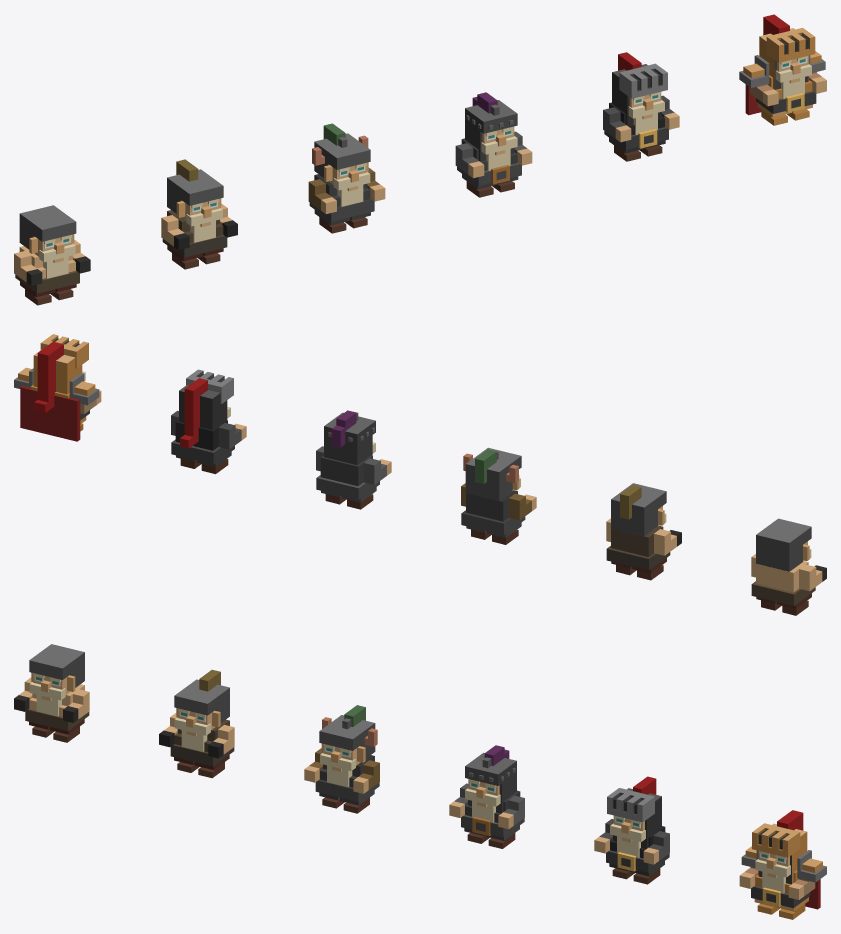
The model's file is character.FBX.
3 views of the same model, one above another, from view 1: azimuth 30°, elevation 25°; view 2: azimuth 150°, elevation 25°; view 3: azimuth 330°, elevation 25° (orthographic).
Parts seen in each view (by area): view 1: knight006, knight003, knight002, knight005, knight001, knight004; view 2: knight006, knight005, knight003, knight001, knight002, knight004; view 3: knight006, knight003, knight005, knight002, knight001, knight004.
Boxes of the visible parts, left/top/right/bottom form: knight006: left=739, top=14, right=826, bottom=125; knight003: left=308, top=123, right=385, bottom=233; knight002: left=161, top=159, right=237, bottom=269; knight005: left=603, top=52, right=679, bottom=161; knight001: left=14, top=205, right=90, bottom=305; knight004: left=455, top=92, right=532, bottom=197; knight006: left=14, top=334, right=101, bottom=441; knight005: left=171, top=369, right=246, bottom=474; knight003: left=461, top=447, right=536, bottom=544; knight001: left=751, top=518, right=826, bottom=615; knight002: left=606, top=483, right=681, bottom=580; knight004: left=316, top=410, right=391, bottom=509; knight006: left=739, top=810, right=826, bottom=919; knight003: left=304, top=705, right=379, bottom=813; knight005: left=594, top=776, right=669, bottom=884; knight002: left=159, top=669, right=234, bottom=778; knight001: left=14, top=644, right=89, bottom=742; knight004: left=449, top=745, right=524, bottom=848.
Bounding box in the file's own units: 54.59 × 5.77 × 3.88.
